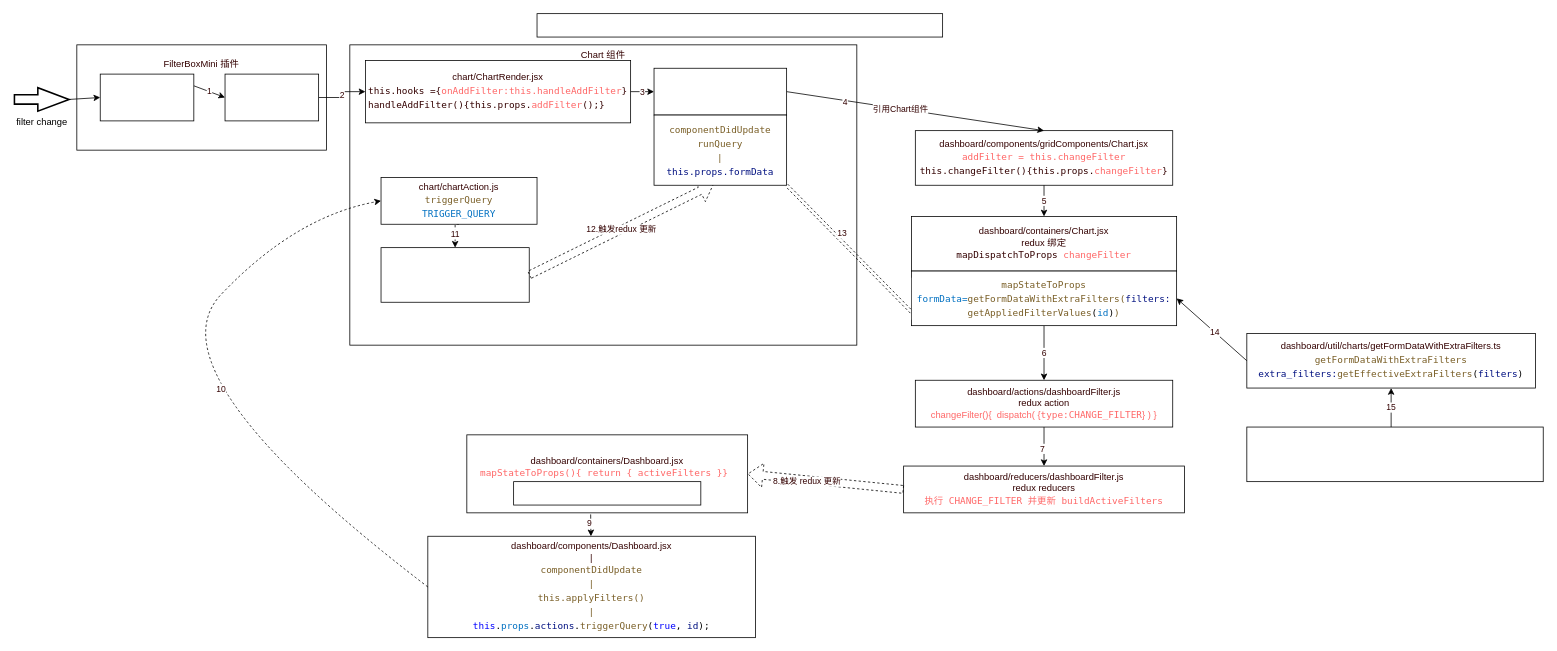
Image size: 1557x651. Some labels were removed from this diagram. Here are the shapes that lost their labels. From the top down, the centre of each, then its label:
[739,25]: superset Dashboard中 filter chart 更新 其它chart 流程图
[146,97]: FilterBox.jsx this.props.onchange
[271,97]: transformProps.js onChange: onAddFilter
[720,91]: chart/Chart.jsx this.props. addFilter ()
[454,274]: chart/chartReducer.js TRIGGER_QUERY
[1394,454]: dashboard/util/charts/getEffectiveExtraFilters.ts getEffectiveExtraFilters()
[607,493]: mapDispatchToProps triggerQuery
